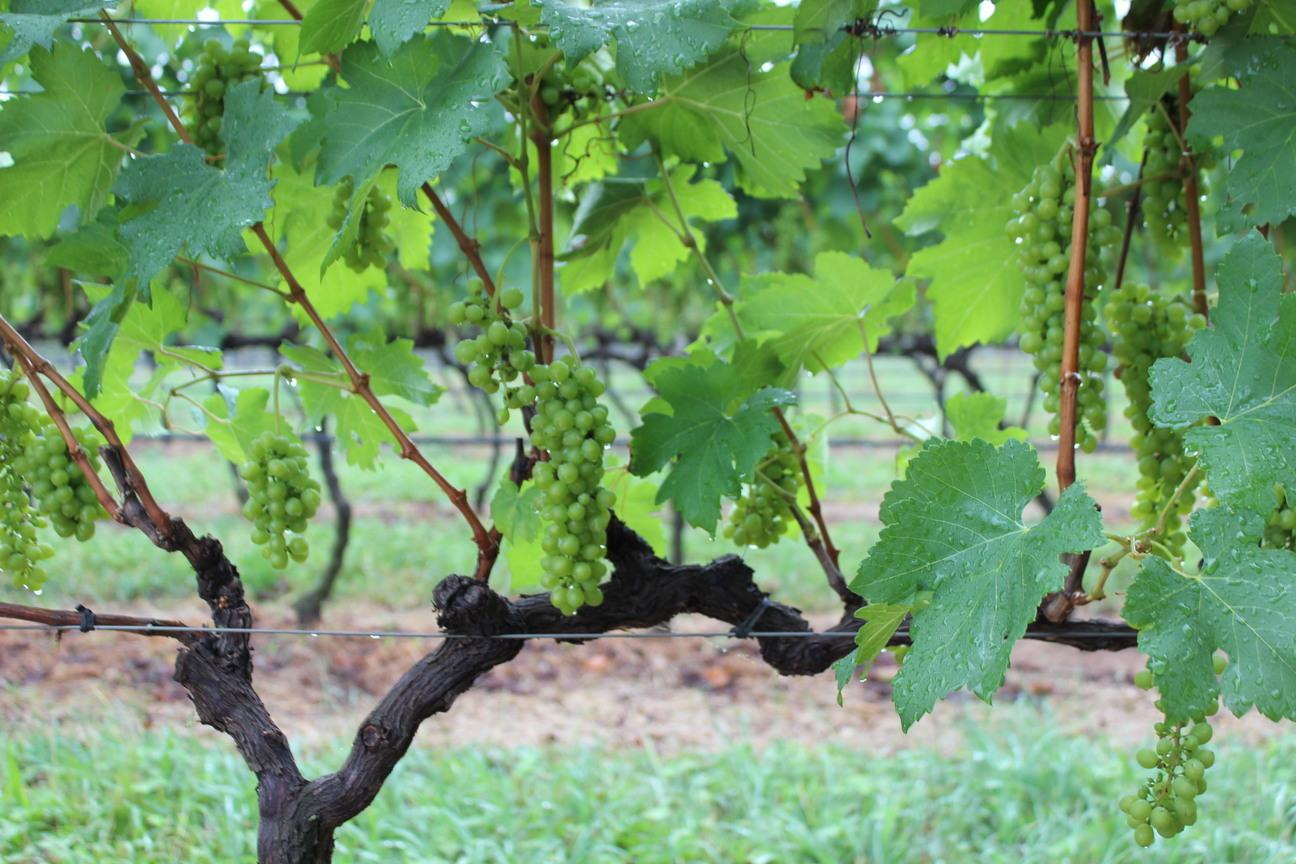leaf: (851, 440, 1101, 727), (1148, 233, 1295, 513), (897, 124, 1065, 356), (113, 82, 297, 291), (1123, 507, 1295, 719), (317, 32, 510, 206), (621, 48, 842, 197), (630, 361, 793, 533), (0, 43, 137, 236), (737, 252, 914, 373), (1187, 48, 1295, 224), (541, 0, 737, 91), (0, 0, 116, 66), (367, 0, 448, 55), (299, 0, 367, 52)
